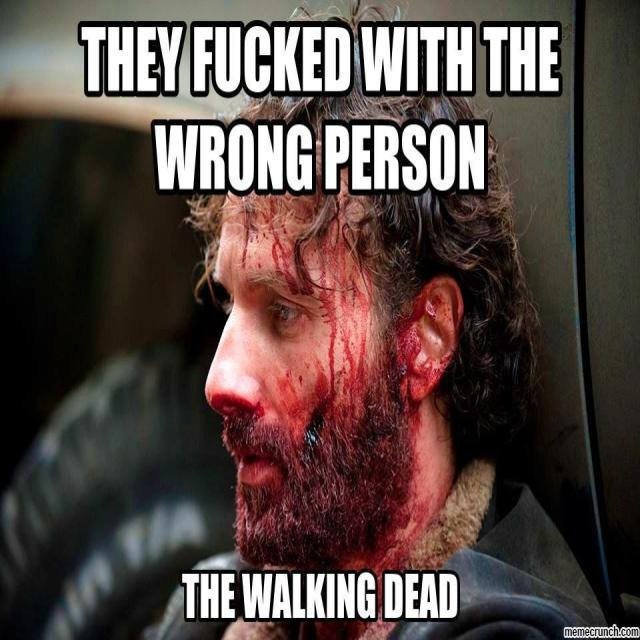flood: (300, 394, 398, 488), (318, 270, 362, 372)
